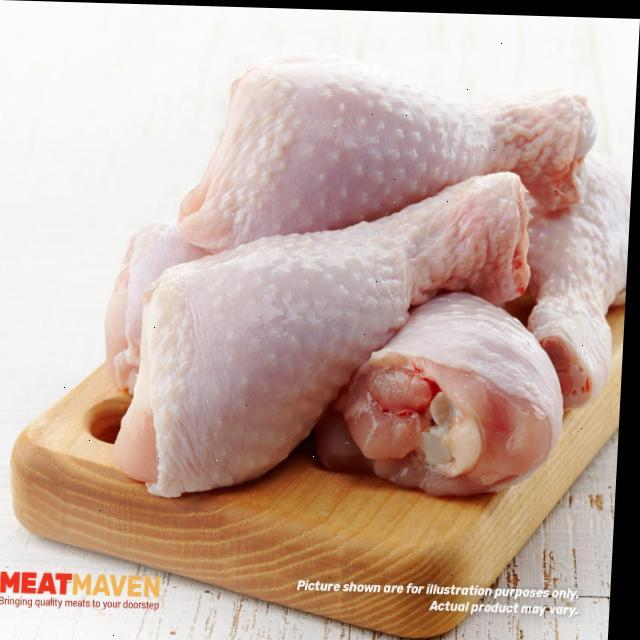leg: (103, 163, 531, 503), (197, 46, 584, 228), (362, 289, 568, 496), (516, 138, 634, 402), (94, 210, 208, 388)
